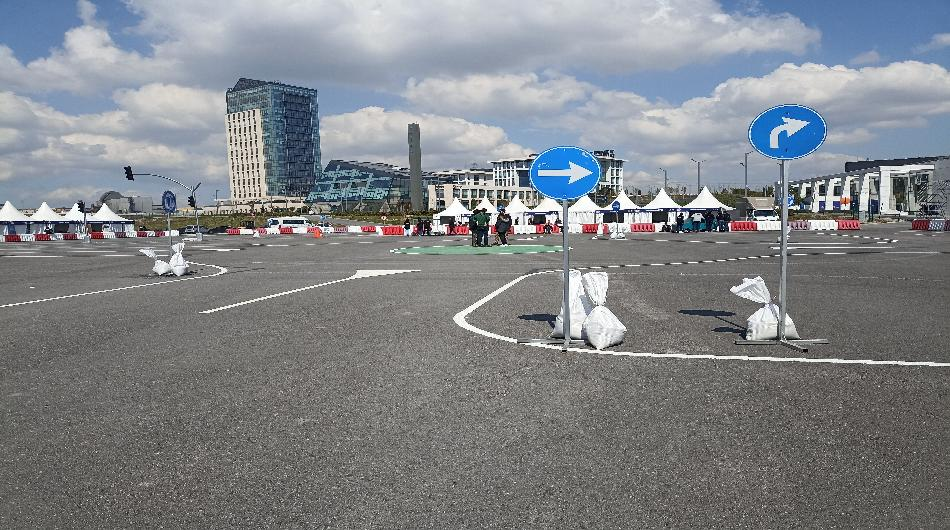saga_mecburi_1: (531, 144, 601, 202)
saga_mecburi_2: (748, 101, 830, 161)
